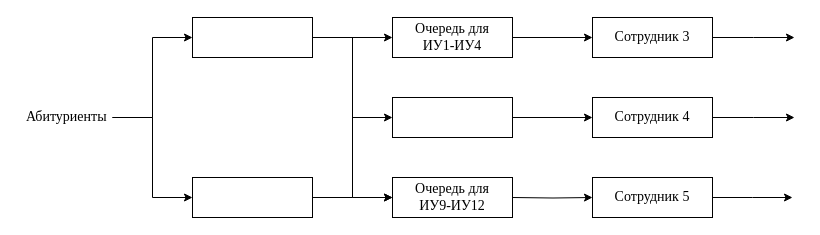
Image size: 820x235. Some labels were removed from this diagram. Here are the shapes that lost their labels. From the top down, the centre of each, then its label:
(252,37): Сотрудник 1
(452,117): Очередь для ИУ5-ИУ8
(252,197): Сотрудник 2
